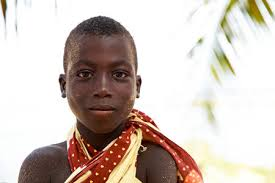person: (57, 14, 142, 137)
